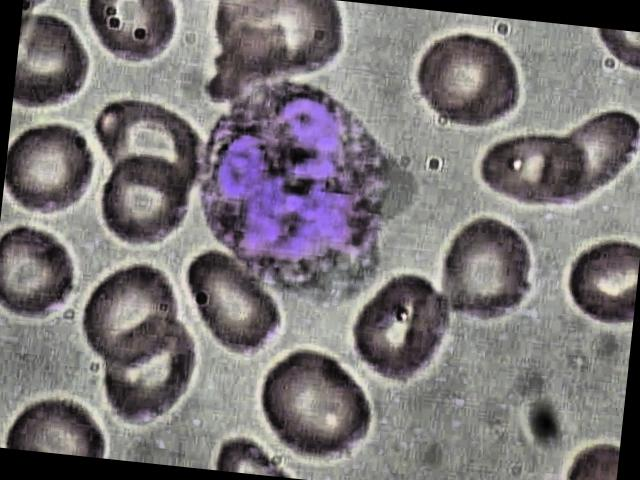RBC: (248, 342, 384, 466), (418, 203, 548, 331), (92, 314, 210, 436), (72, 257, 190, 378), (172, 246, 290, 366), (344, 268, 456, 393), (406, 26, 532, 135), (463, 123, 588, 217), (2, 117, 108, 224), (97, 150, 202, 255), (0, 222, 96, 329), (556, 232, 640, 339), (74, 0, 180, 73)
WBC: (173, 71, 417, 314)
